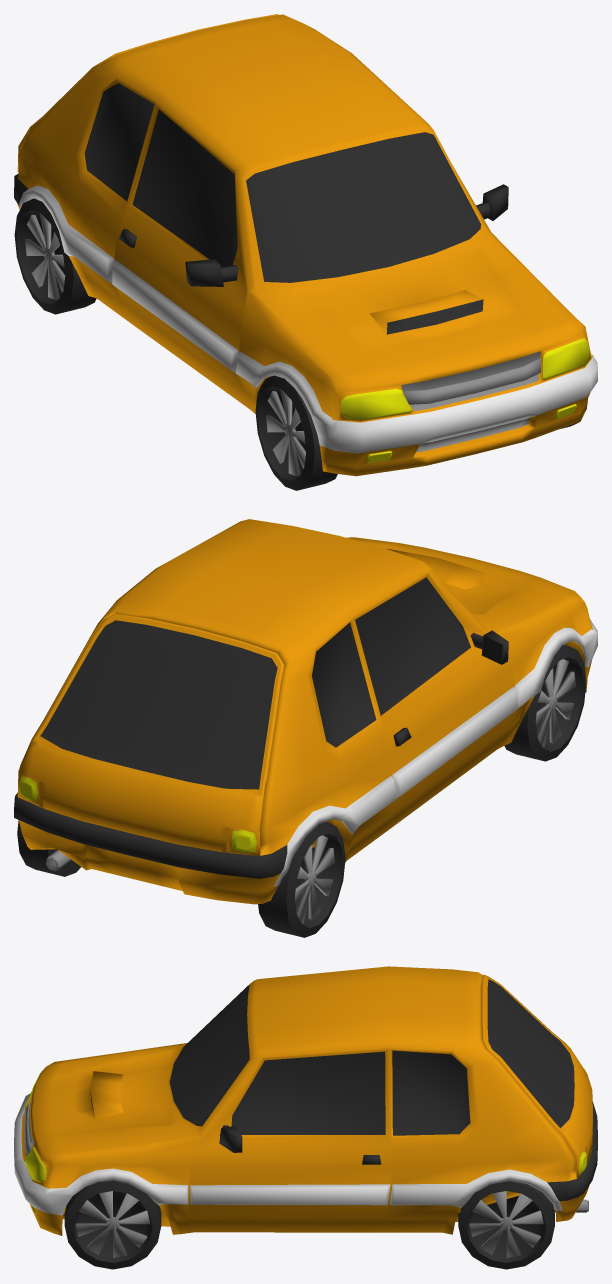
The model's file is Mini_car.fbx.
3 views of the same model, one above another, from view 1: azimuth 30°, elevation 25°; view 2: azimuth 150°, elevation 25°; view 3: azimuth 270°, elevation 25° (orthographic). The views are drawn at different scales.
Visible parts, largest first — view 1: Body, FLW.003, FLW.002, Body.001; view 2: Body, Body.001, FLW.002, FLW.003, FLW.001; view 3: Body, Body.001, FLW, FLW.001.
Boxes of the visible parts, left/top/right/bottom form: Body: left=14, top=14, right=597, bottom=476; FLW.003: left=255, top=375, right=337, bottom=490; FLW.002: left=14, top=198, right=96, bottom=314; Body.001: left=17, top=14, right=278, bottom=172; Body: left=14, top=519, right=597, bottom=904; Body.001: left=17, top=613, right=284, bottom=855; FLW.002: left=258, top=822, right=345, bottom=937; FLW.003: left=504, top=645, right=586, bottom=761; FLW.001: left=17, top=820, right=80, bottom=876; Body: left=14, top=966, right=597, bottom=1235; Body.001: left=482, top=974, right=592, bottom=1178; FLW: left=64, top=1180, right=161, bottom=1269; FLW.001: left=458, top=1181, right=554, bottom=1269.
Size of the model in its own units: 243 by 193 by 470.
